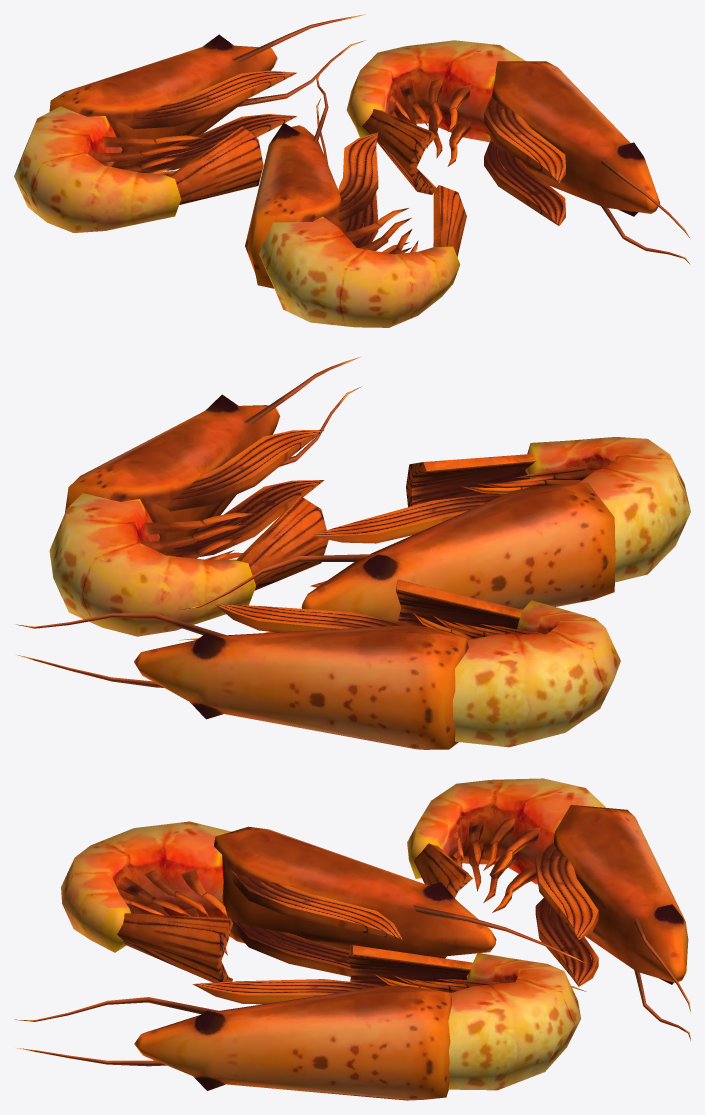
3 renders of one model, top to bottom at view 1: azimuth 30°, elevation 25°; view 2: azimuth 150°, elevation 25°; view 3: azimuth 270°, elevation 25°, orthographic. The views are drawn at different scales.
Parts seen in each view (by area): view 1: SM_Shrimp_Cooked_01_LOD0; view 2: SM_Shrimp_Cooked_01_LOD0; view 3: SM_Shrimp_Cooked_01_LOD0.
Boxes of the visible parts, bbox=[...] form: SM_Shrimp_Cooked_01_LOD0: bbox=[14, 14, 689, 327]; SM_Shrimp_Cooked_01_LOD0: bbox=[16, 356, 690, 749]; SM_Shrimp_Cooked_01_LOD0: bbox=[14, 778, 690, 1100].
Bounding box in the file's own units: 0.2547 × 0.0485 × 0.2749.
Materials: 1 (1 with a texture image).
